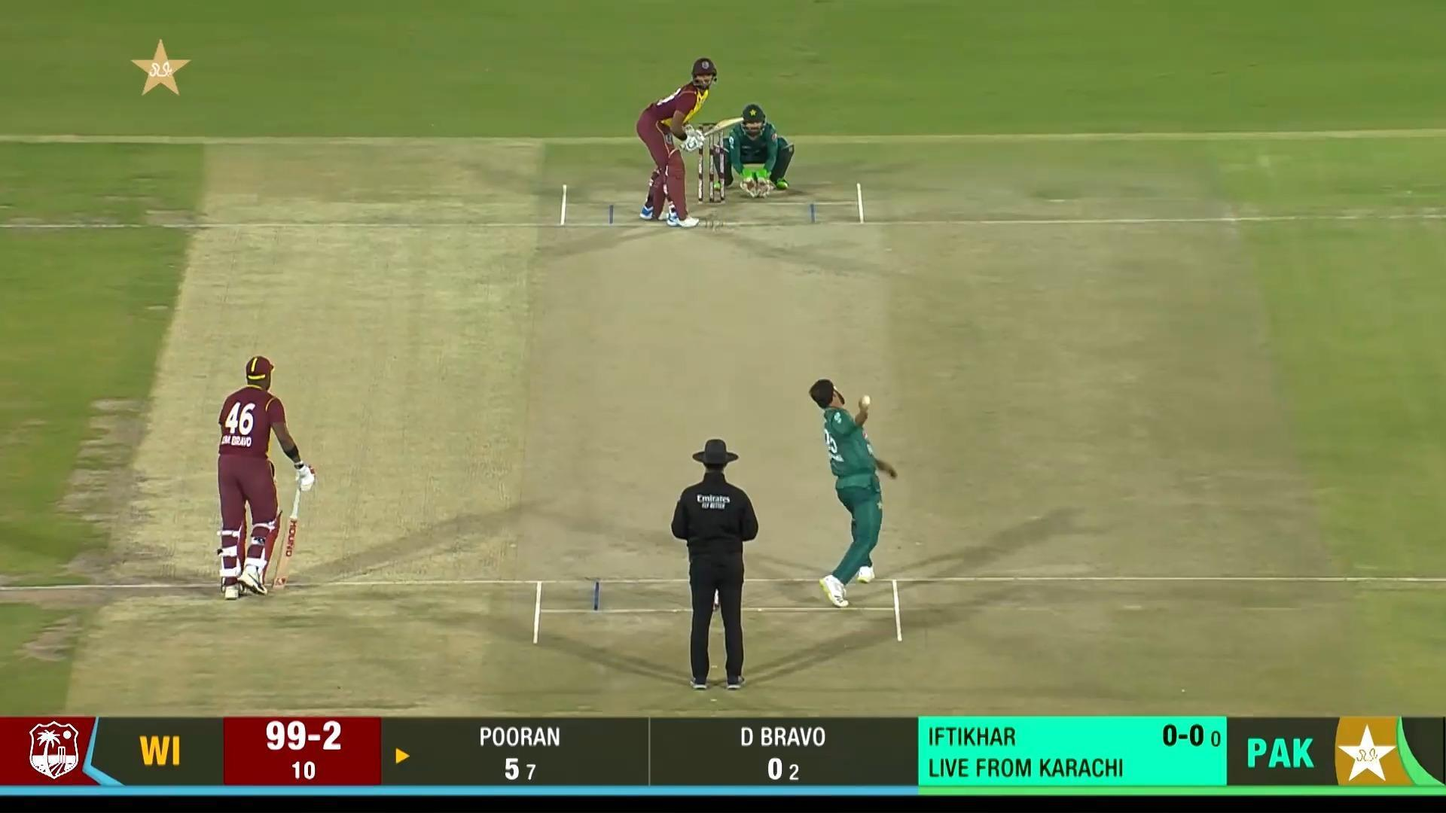BM 1: (636, 58, 744, 228)
BO: (808, 375, 900, 608)
